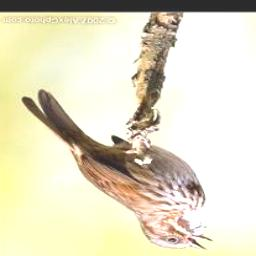Sparrow: (20, 88, 218, 255)
